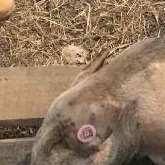text: (70, 117, 106, 153)
